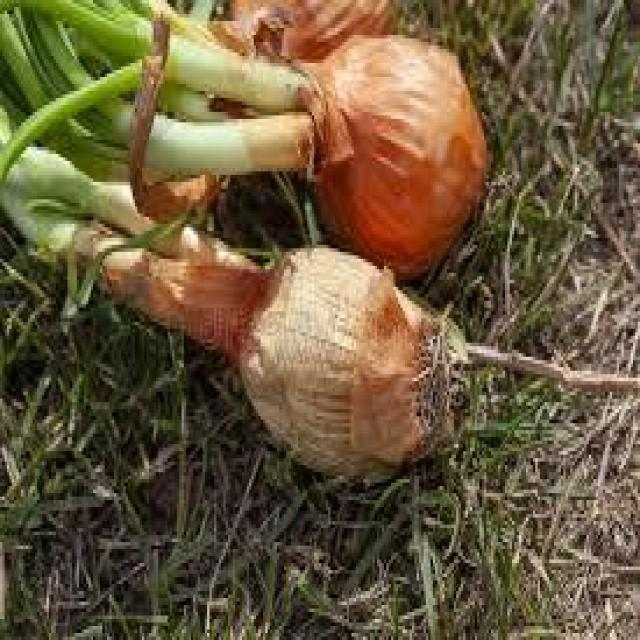Onion: (3, 0, 316, 308), (233, 248, 479, 493), (277, 25, 498, 284), (229, 0, 392, 66)
